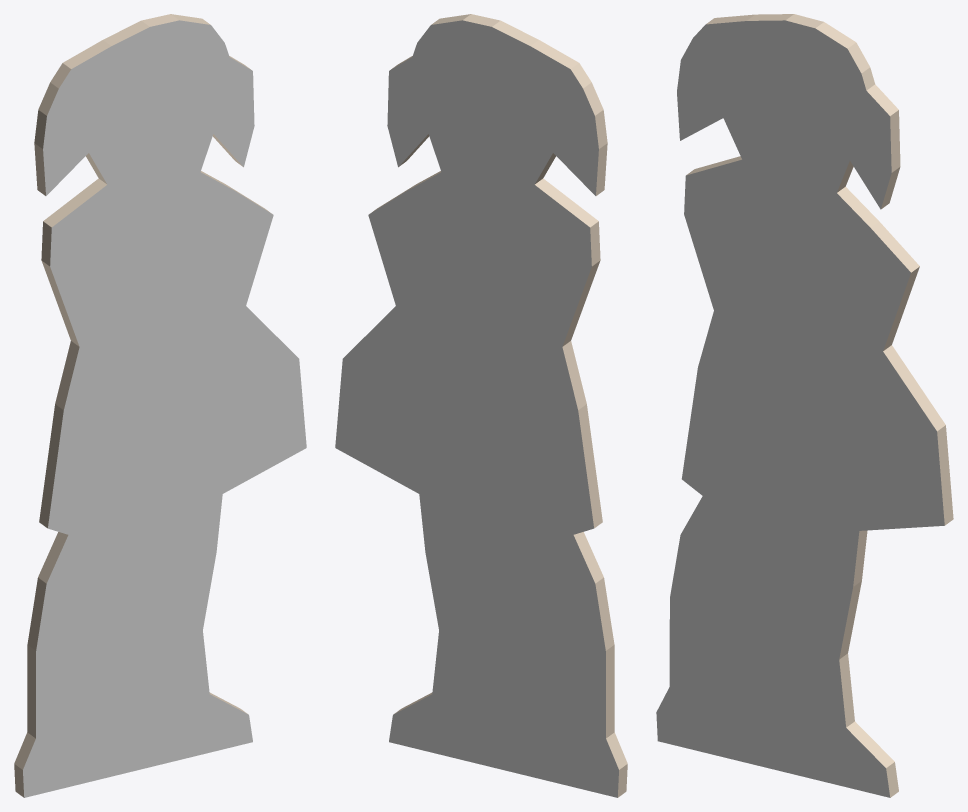
The model's file is tiffanyModel.fbx.
3 views of the same model, side by side, from view 1: azimuth 30°, elevation 25°; view 2: azimuth 150°, elevation 25°; view 3: azimuth 330°, elevation 25° (orthographic).
Visible parts, largest first — view 1: Tiffany; view 2: Tiffany; view 3: Tiffany.
Boxes of the visible parts, x1,y1,x2,y2 form: Tiffany: (14, 14, 306, 797); Tiffany: (335, 14, 627, 797); Tiffany: (656, 14, 953, 797).
Bounding box in the file's own units: 40.29 × 100 × 2.14.
